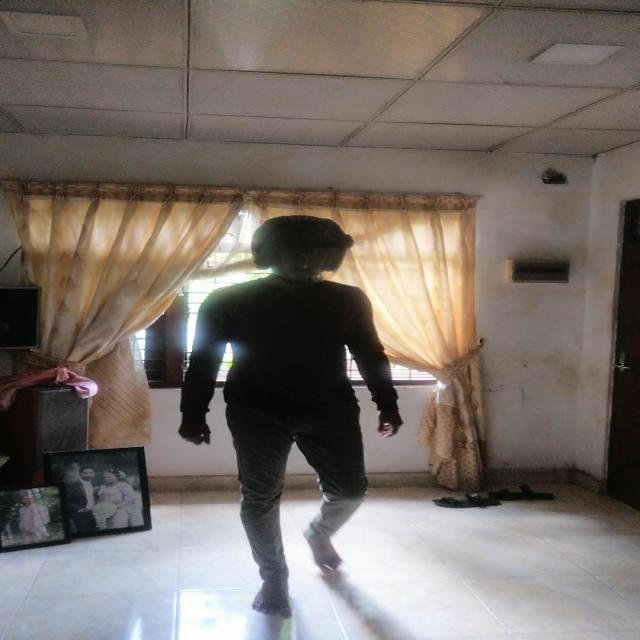Helmet_Wearer: (248, 212, 362, 302)
Person: (184, 208, 407, 605)
